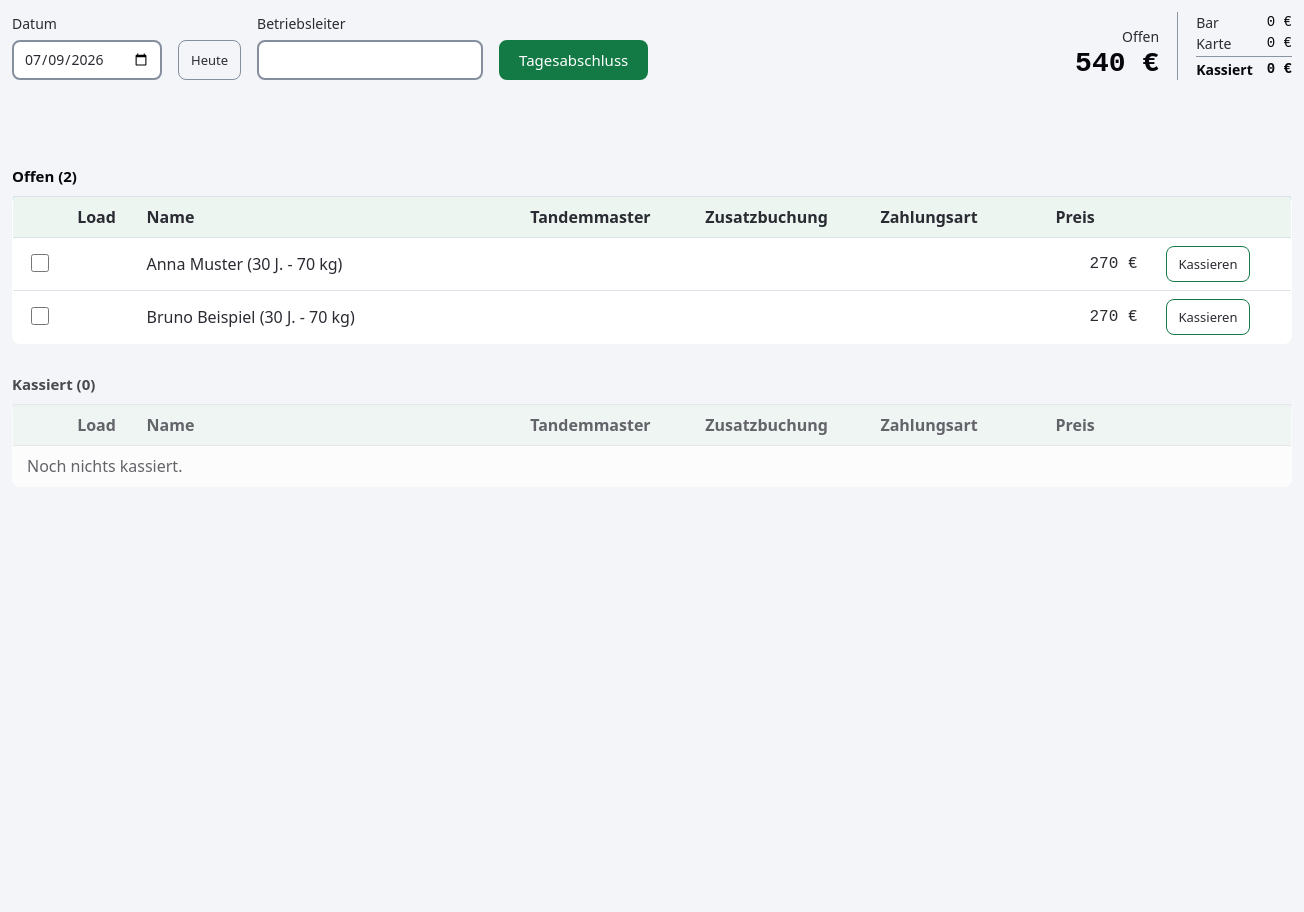
Scenario: List › Export-Warnung › asks again instead of exporting when the collected rows still have no Zahlungsart
Check: the text "Anna Muster" is shown, box x1=146 y1=253 x2=243 y2=275
Click the button "Tagesabschluss" at x=574, y=60, box x1=499 y1=40 x2=648 y2=80
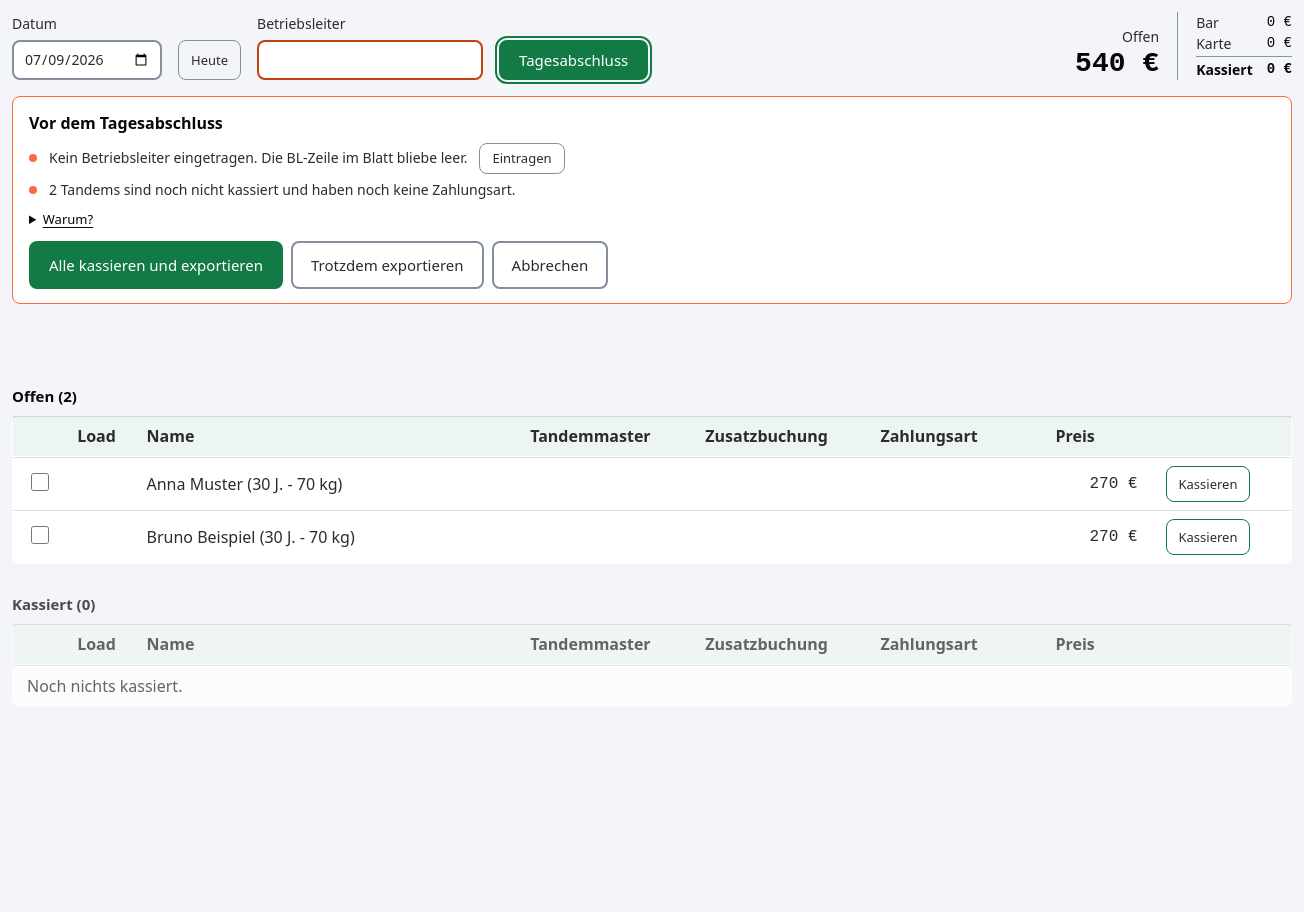
Click the button "Alle kassieren und exportieren" at x=156, y=265, box x1=29 y1=241 x2=283 y2=289
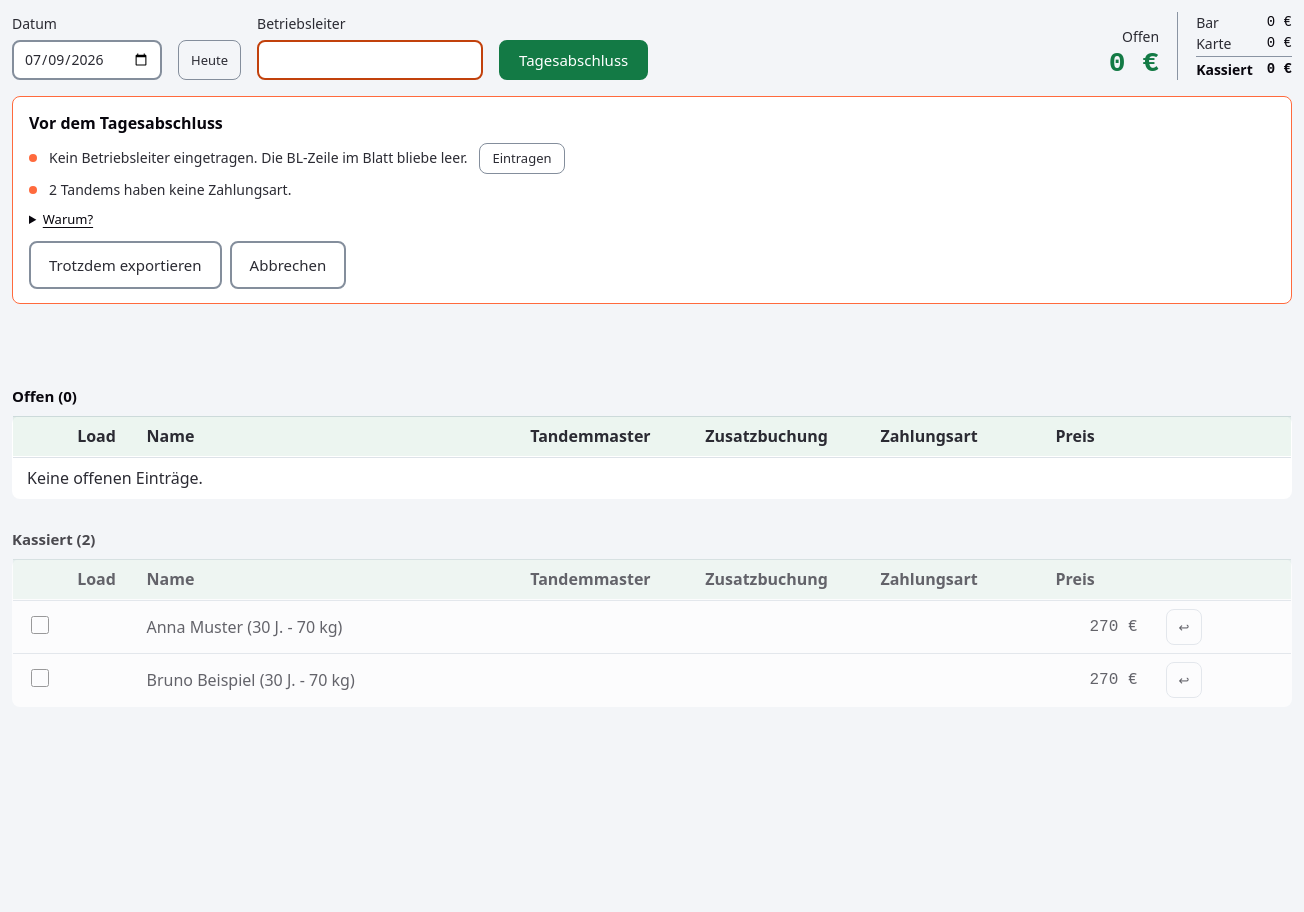
Check: the text "2 Tandems haben keine Zahlungsart." is shown, box x1=49 y1=180 x2=291 y2=200
Check: the button "Alle kassieren und exportieren" is gone
